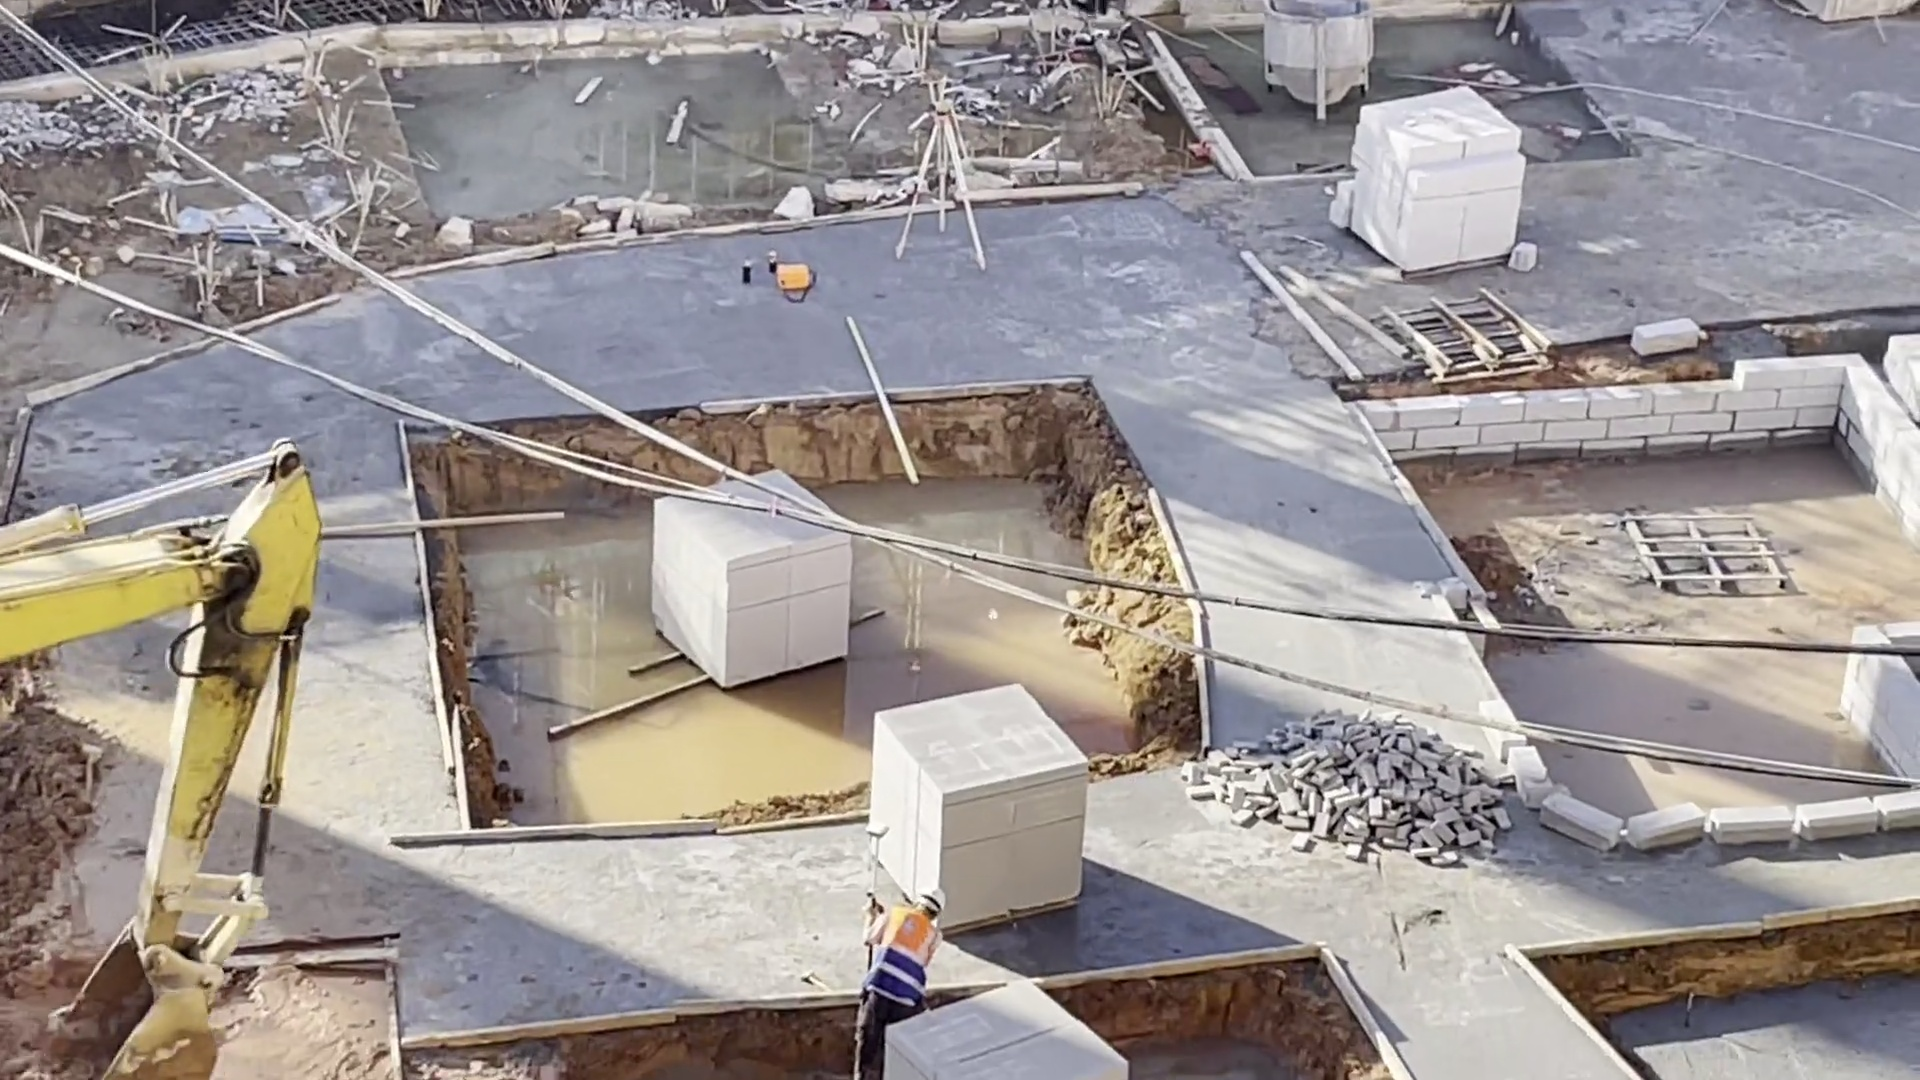brick: (1182, 709, 1518, 880), (855, 684, 1090, 925), (637, 468, 858, 700), (1342, 82, 1526, 282), (879, 975, 1136, 1080)
helmet: (917, 883, 946, 916)
hopper: (1262, 1, 1374, 114)
person: (852, 884, 951, 1080)
vest: (876, 904, 936, 1018)
